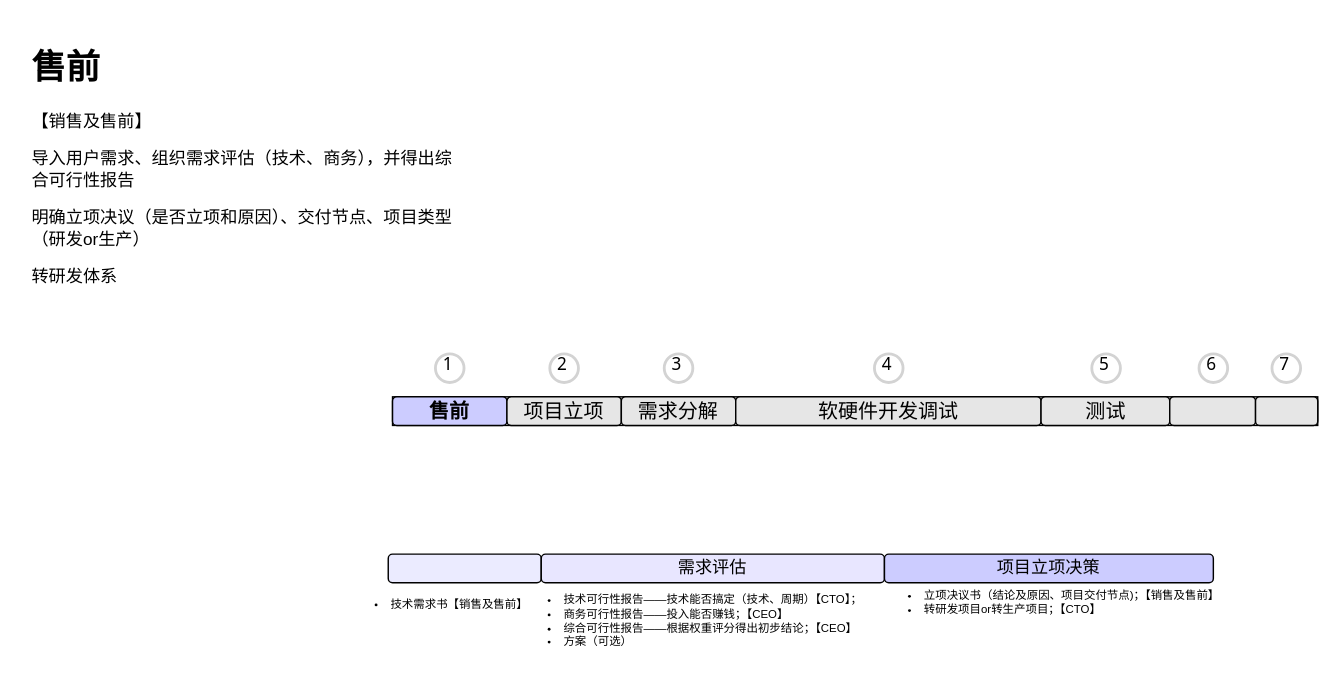
Image size: 1343x692. Some labels were removed from this diagram. The centre of each missing label's shape, as x and y in pixels:
交货: [1212,410]
总结: [1286,410]
需求导入: [464,568]
